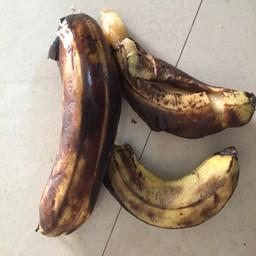Bad_banana: (102, 6, 256, 137), (38, 10, 113, 237), (103, 139, 241, 246)
